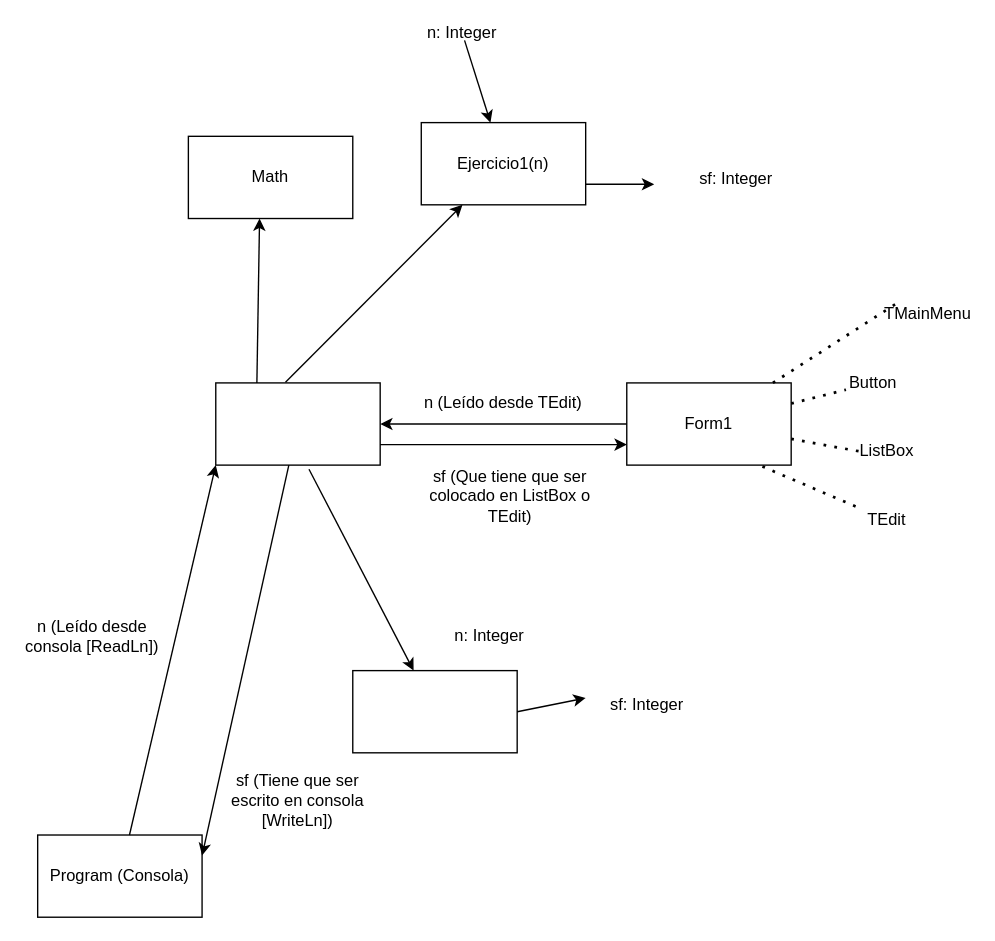
The diagram is 995 pixels wide and 941 high, and some of its shapes have lost their labels. The shapes that lost their labels are listed below. From the top down, each one's centre as x and y in pixels, then its label:
At (297,423): "Sumatorias".
At (434,711): "Ejercicio2(n)".
